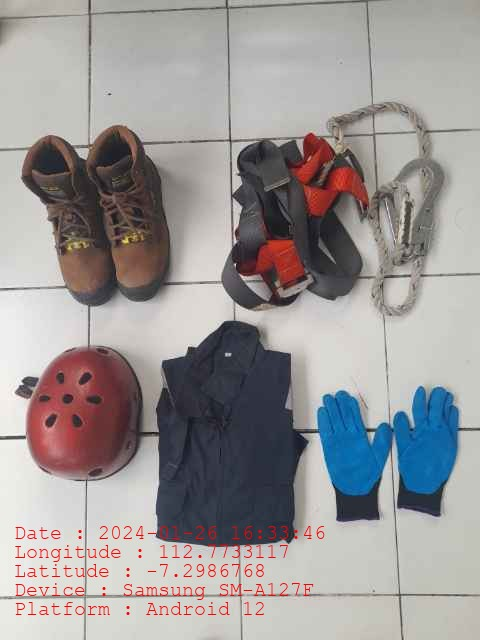HELM: (24, 345, 144, 482)
SARUNG_TANGAN: (316, 390, 392, 521), (394, 385, 459, 517)
SEPATU: (20, 124, 170, 307)
TAMBANG_SLING: (340, 98, 445, 317)
